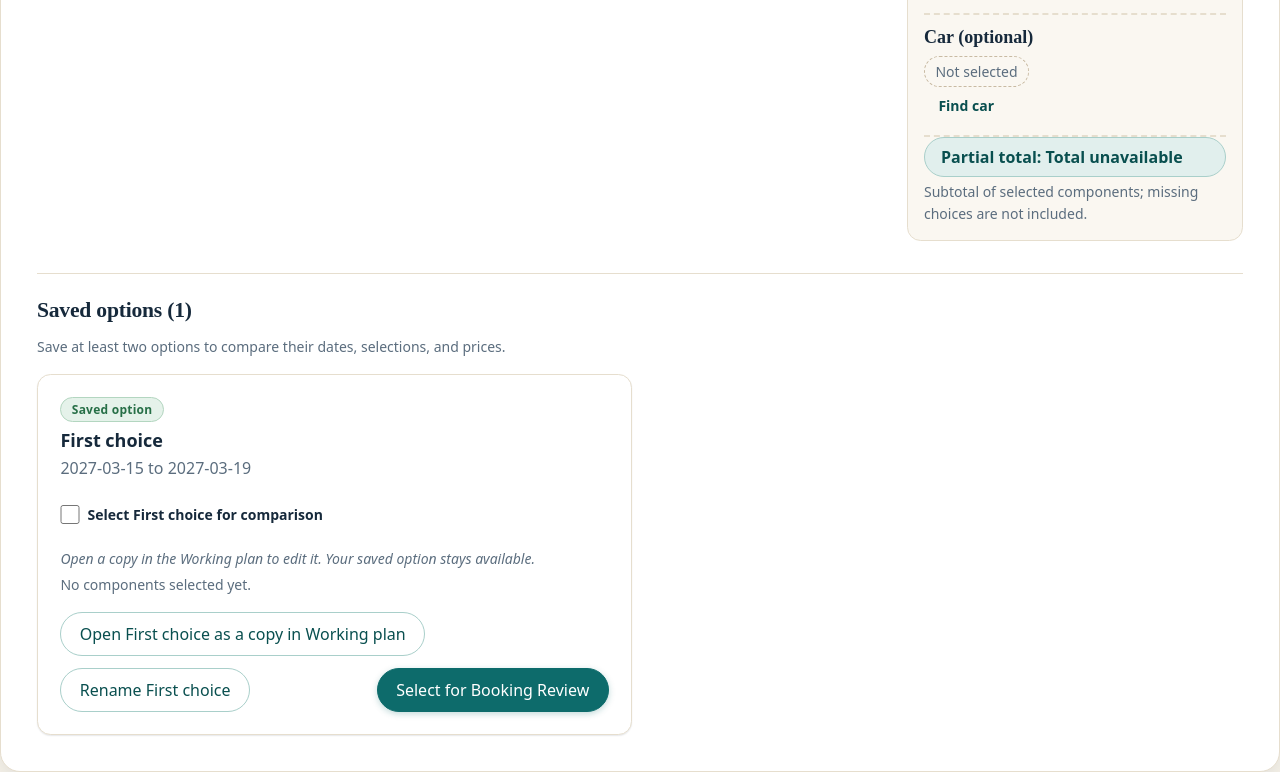
Saved option lifecycle › renames an unbooked option without using the snapshot update action
The image size is (1280, 772).
(page scrolled)
Click the button "Rename First choice" at (155, 690), box [60,668,250,712]
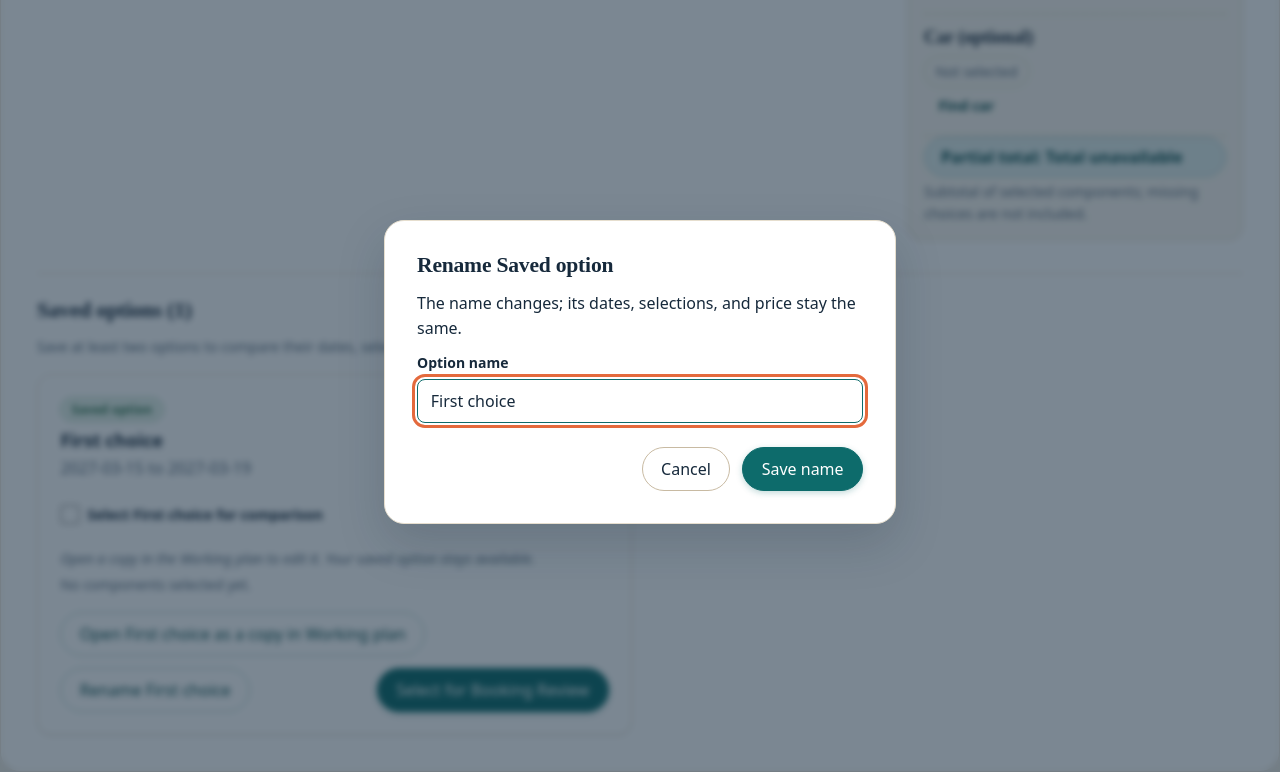
Replace the text in the field labelled "Option name" with "Later choice" at (640, 401), box [417,379,863,423]
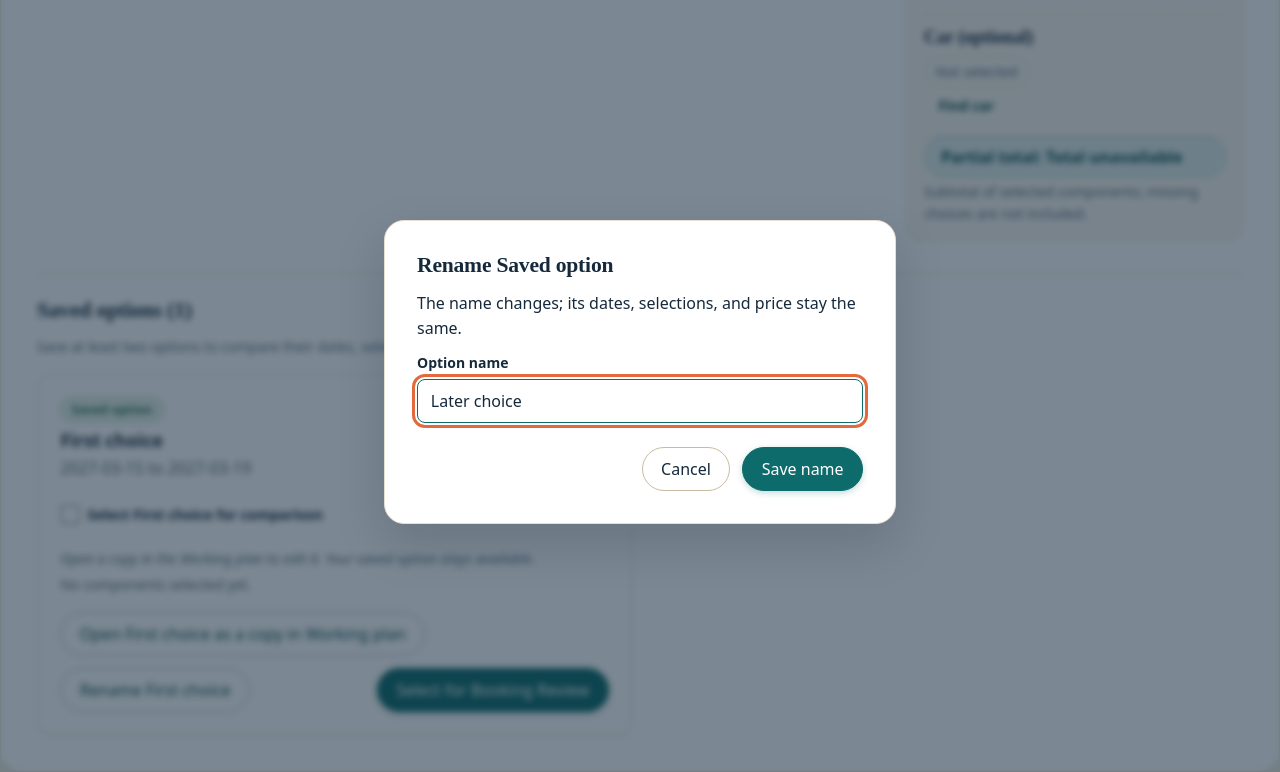
Click the button "Save name" at (803, 469), box [742,447,863,491]
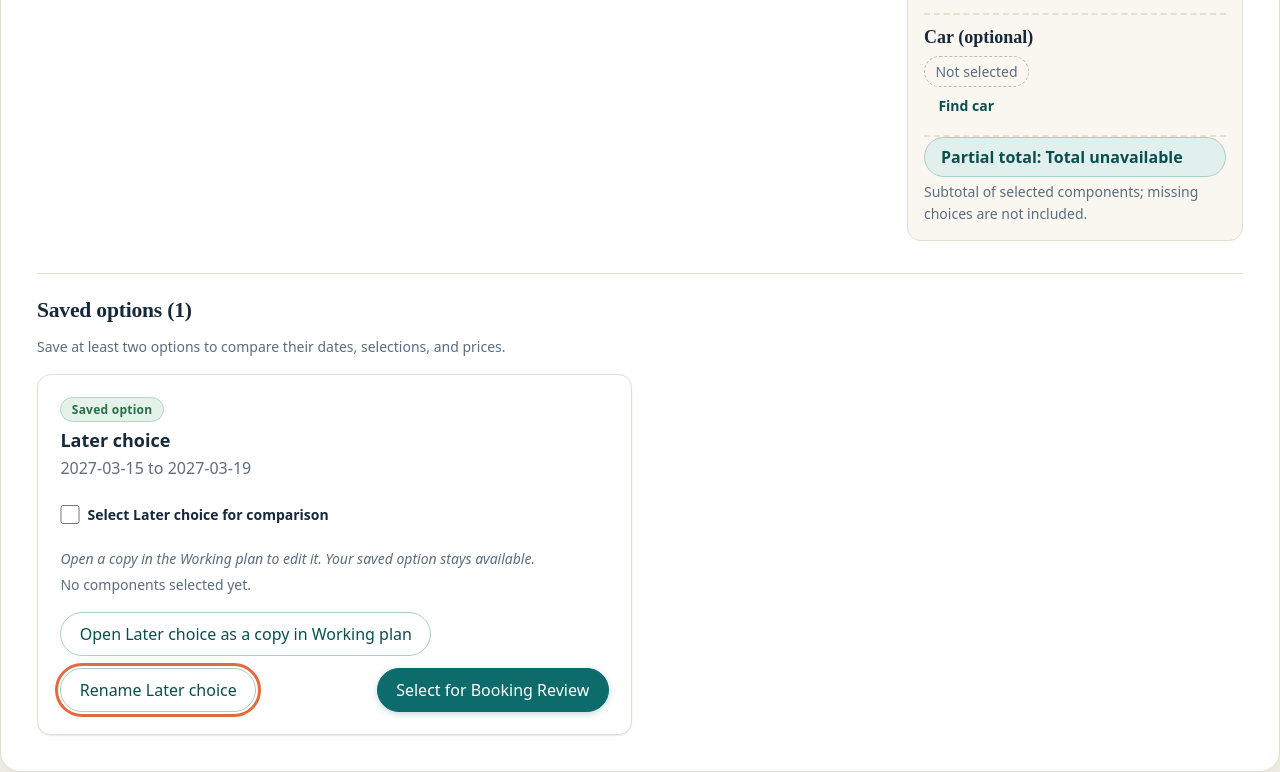
expect the heading "Later choice" is shown: met, box [60,428,170,452]
